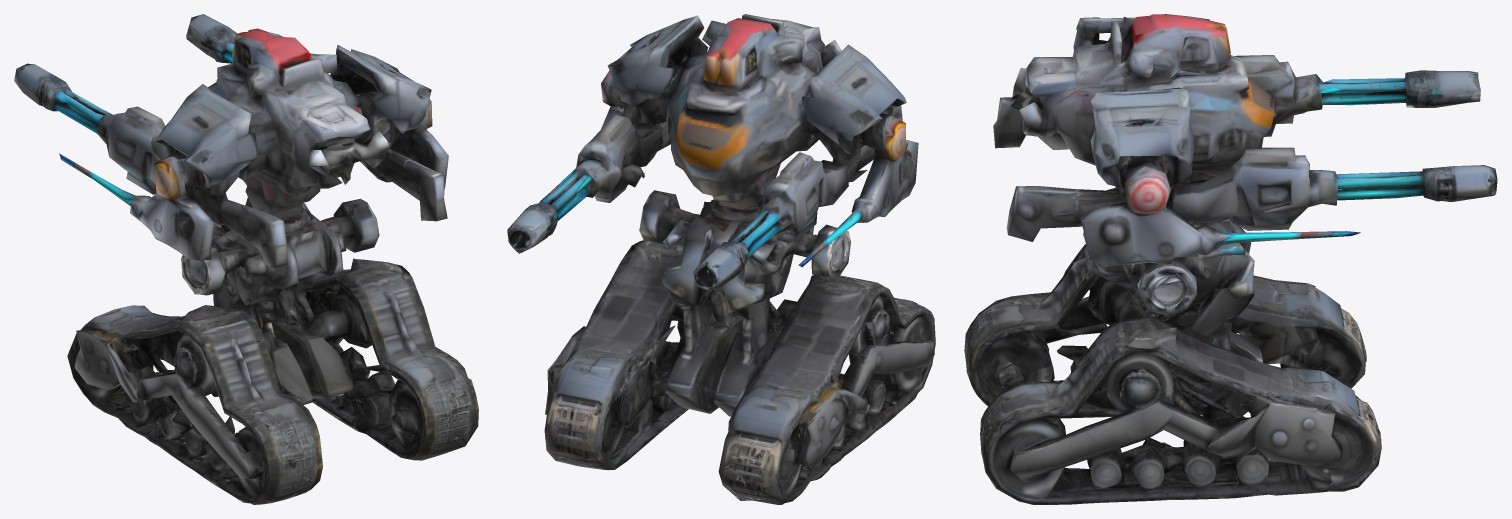
File: robot.glb
3 renders of one model, left to right at view 1: azimuth 30°, elevation 25°; view 2: azimuth 150°, elevation 25°; view 3: azimuth 270°, elevation 25°, orthographic. The views are drawn at different scales.
Visible parts, largest first — view 1: Mesh_0; view 2: Mesh_0; view 3: Mesh_0.
Boxes of the visible parts, <box> form: Mesh_0: <box>14,14,478,504</box>; Mesh_0: <box>507,14,935,504</box>; Mesh_0: <box>964,14,1497,504</box>.
Size of the model in its own units: 1.33 by 1.8 by 2.03.
Materials: 1 (1 with a texture image).
